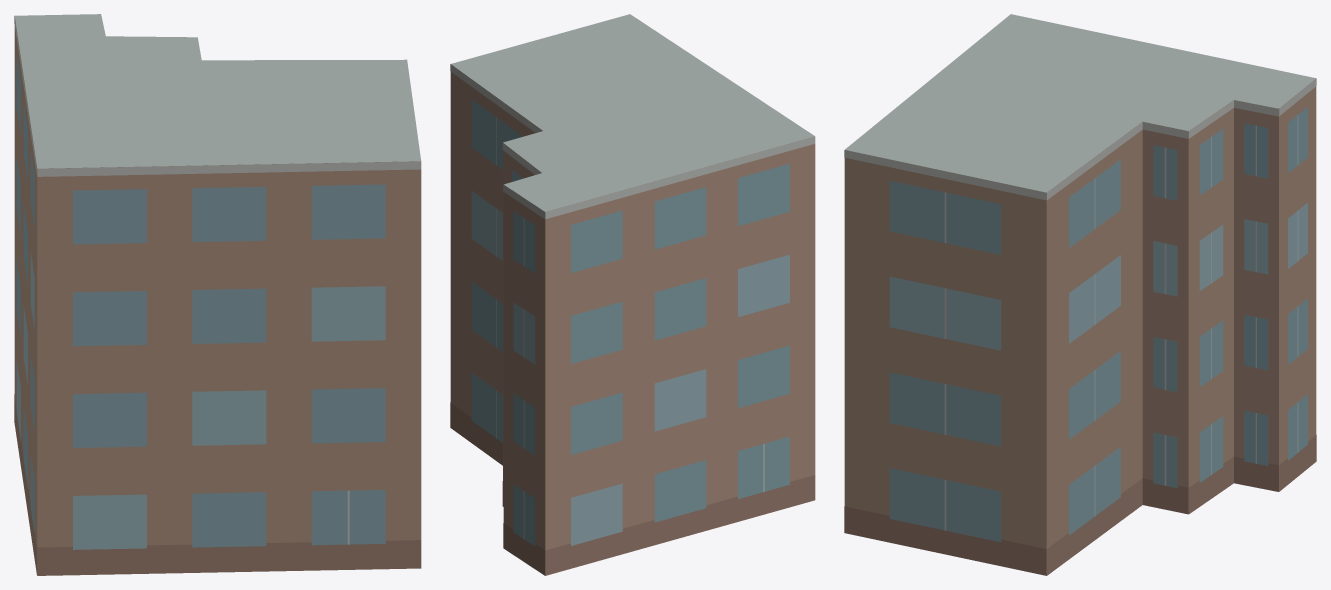
The model's file is survey-upis-32524569.glb.
The picture shows the model from 3 angles, left to right: view 1: azimuth 30°, elevation 25°; view 2: azimuth 150°, elevation 25°; view 3: azimuth 270°, elevation 25°; orthographic projection. The views are drawn at different scales.
Parts seen in each view (by area): view 1: survey-upis-32524569.tmp; view 2: survey-upis-32524569.tmp; view 3: survey-upis-32524569.tmp.
Part boxes in pixels (left/top/right/bottom): survey-upis-32524569.tmp: left=14, top=14, right=421, bottom=575; survey-upis-32524569.tmp: left=450, top=14, right=815, bottom=575; survey-upis-32524569.tmp: left=844, top=14, right=1316, bottom=575.
Size of the model in its own units: 12.06 by 12.05 by 13.46.
